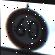Speed Limit -60-: (3, 5, 48, 50)
